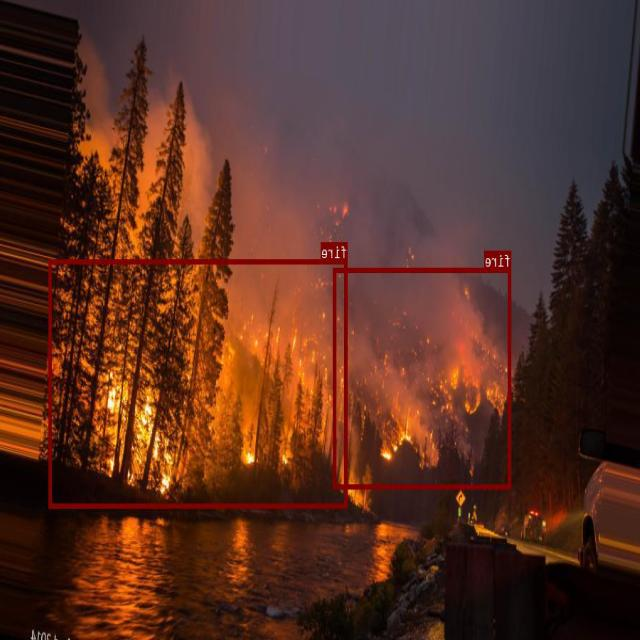fire: (49, 259, 348, 507), (334, 268, 512, 488)
